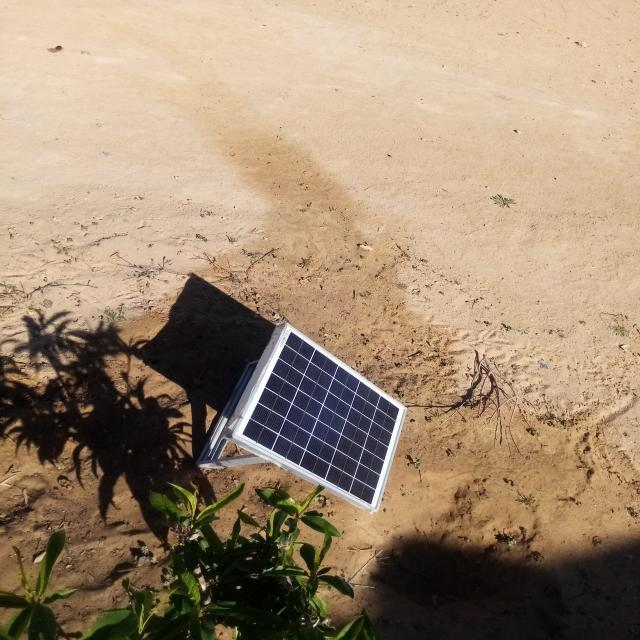no faulty: (232, 323, 408, 513)
